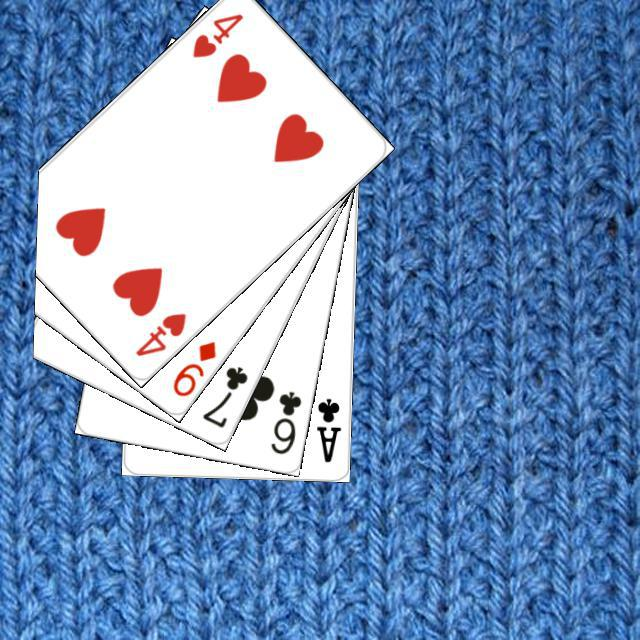4h: (187, 8, 245, 60), (130, 308, 188, 358)
6c: (265, 386, 303, 456)
7c: (197, 361, 250, 430)
9d: (167, 336, 218, 399)
Ac: (312, 393, 343, 464)
